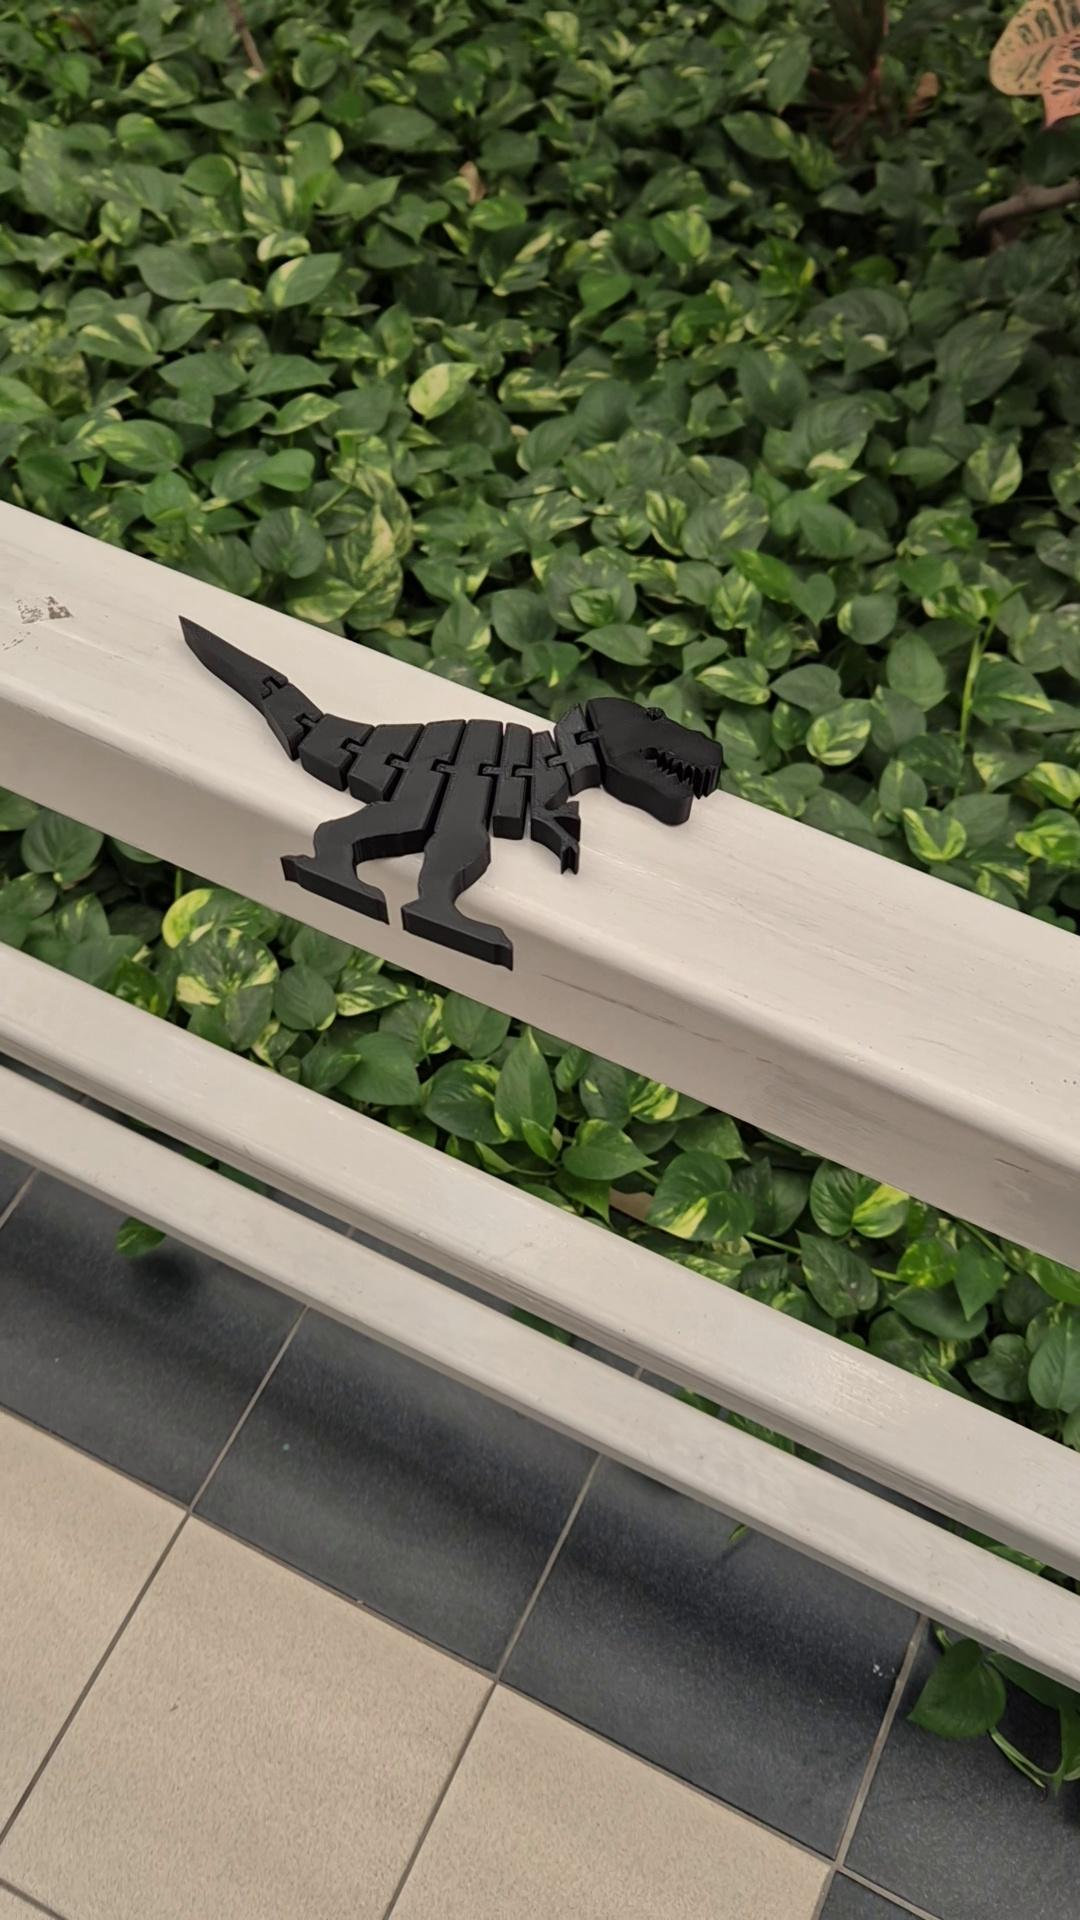dinosaur: (177, 613, 725, 973)
